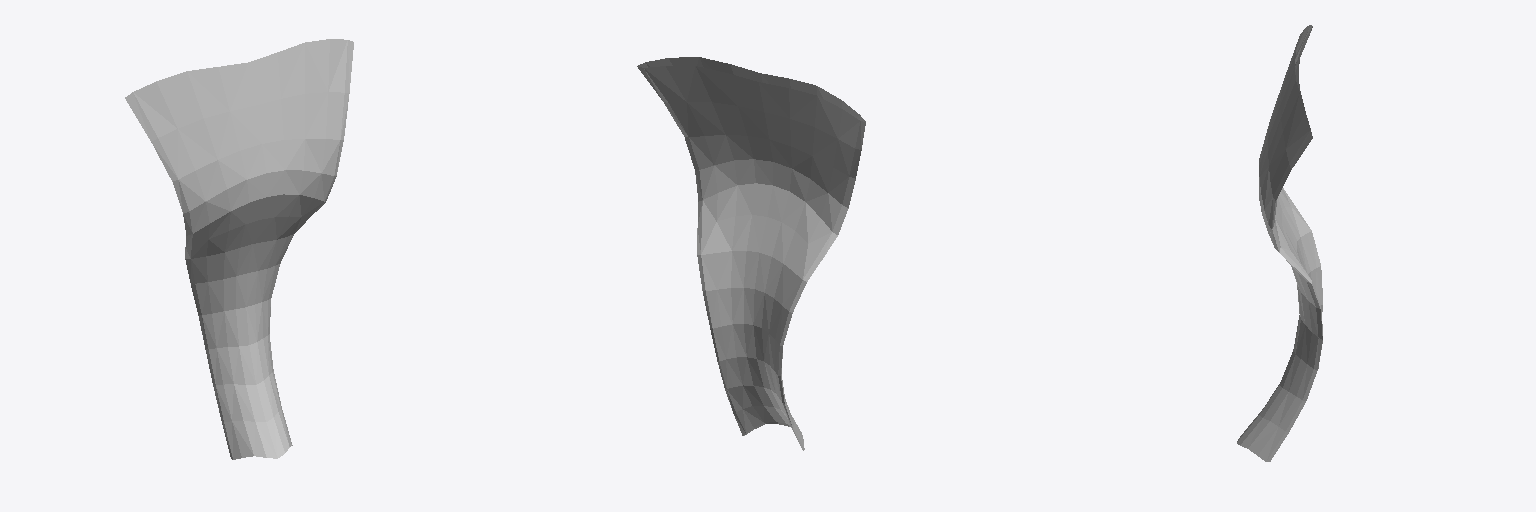
The model's file is procerus.obj.
3 views of the same model, side by side, from view 1: azimuth 30°, elevation 25°; view 2: azimuth 150°, elevation 25°; view 3: azimuth 270°, elevation 25° (orthographic).
Parts seen in each view (by area): view 1: Procerus_Muscle; view 2: Procerus_Muscle; view 3: Procerus_Muscle.
Part boxes in pixels (x1,y1,x2,y2): Procerus_Muscle: (125,39,353,459); Procerus_Muscle: (637,57,865,450); Procerus_Muscle: (1237,25,1322,461).
Bounding box in the file's own units: 0.3199 × 0.5113 × 0.105.